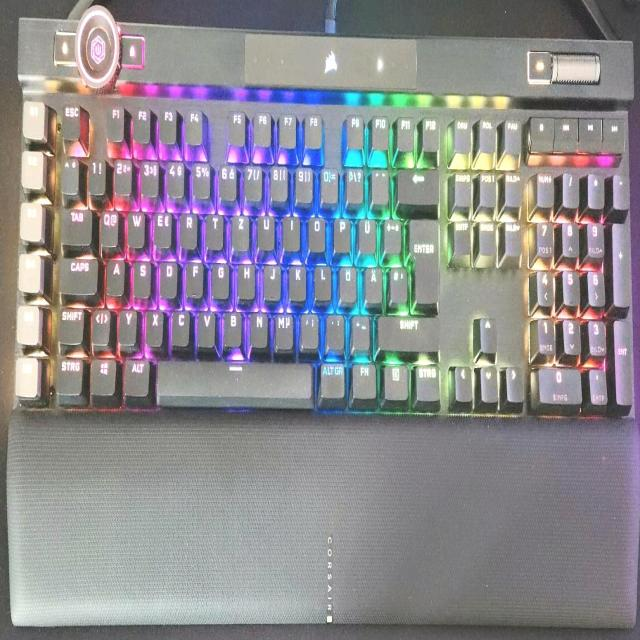0: (319, 165, 338, 204)
1: (87, 156, 106, 193)
2: (112, 155, 132, 195)
3: (139, 157, 159, 197)
4: (166, 158, 184, 196)
5: (191, 160, 211, 200)
6: (217, 163, 237, 200)
7: (243, 163, 262, 201)
8: (269, 163, 288, 201)
9: (294, 165, 313, 202)
a: (105, 255, 125, 294)
accent: (370, 167, 389, 204)
ae: (363, 263, 382, 303)
alt-left: (122, 355, 150, 396)
altgr-right: (318, 359, 345, 399)
b: (222, 308, 241, 346)
c: (170, 307, 189, 345)
caret: (61, 154, 79, 194)
comma: (300, 310, 319, 348)
d: (158, 257, 177, 297)
del: (395, 165, 439, 205)
e: (152, 209, 172, 247)
enter: (408, 214, 438, 306)
f: (184, 258, 203, 297)
g: (210, 260, 229, 297)
h: (236, 260, 254, 298)
hash: (388, 263, 407, 302)
i: (282, 213, 300, 249)
j: (263, 261, 281, 299)
k: (288, 261, 306, 301)
keyboard: (11, 93, 636, 424)
l: (313, 261, 331, 300)
less: (90, 305, 110, 344)
m: (273, 310, 293, 349)
minus: (350, 311, 370, 351)
n: (249, 308, 267, 346)
o: (307, 214, 325, 250)
oe: (338, 263, 357, 303)
p: (333, 215, 351, 251)
plus: (382, 215, 401, 253)
point: (324, 311, 344, 350)
q: (99, 207, 119, 245)
r: (178, 210, 197, 248)
s: (132, 257, 151, 297)
shift-left: (56, 304, 84, 344)
shift-lock: (57, 254, 98, 295)
shift-right: (376, 313, 439, 350)
space: (155, 358, 314, 404)
ss: (346, 166, 364, 204)
strg-left: (55, 353, 84, 396)
strg-right: (413, 362, 440, 402)
t: (204, 210, 223, 248)
tab: (59, 204, 92, 244)
u: (256, 212, 274, 249)
ue: (357, 215, 376, 253)
v: (196, 308, 215, 347)
w: (127, 208, 145, 246)
x: (144, 307, 163, 344)
y: (116, 306, 136, 344)
z: (230, 212, 249, 249)
